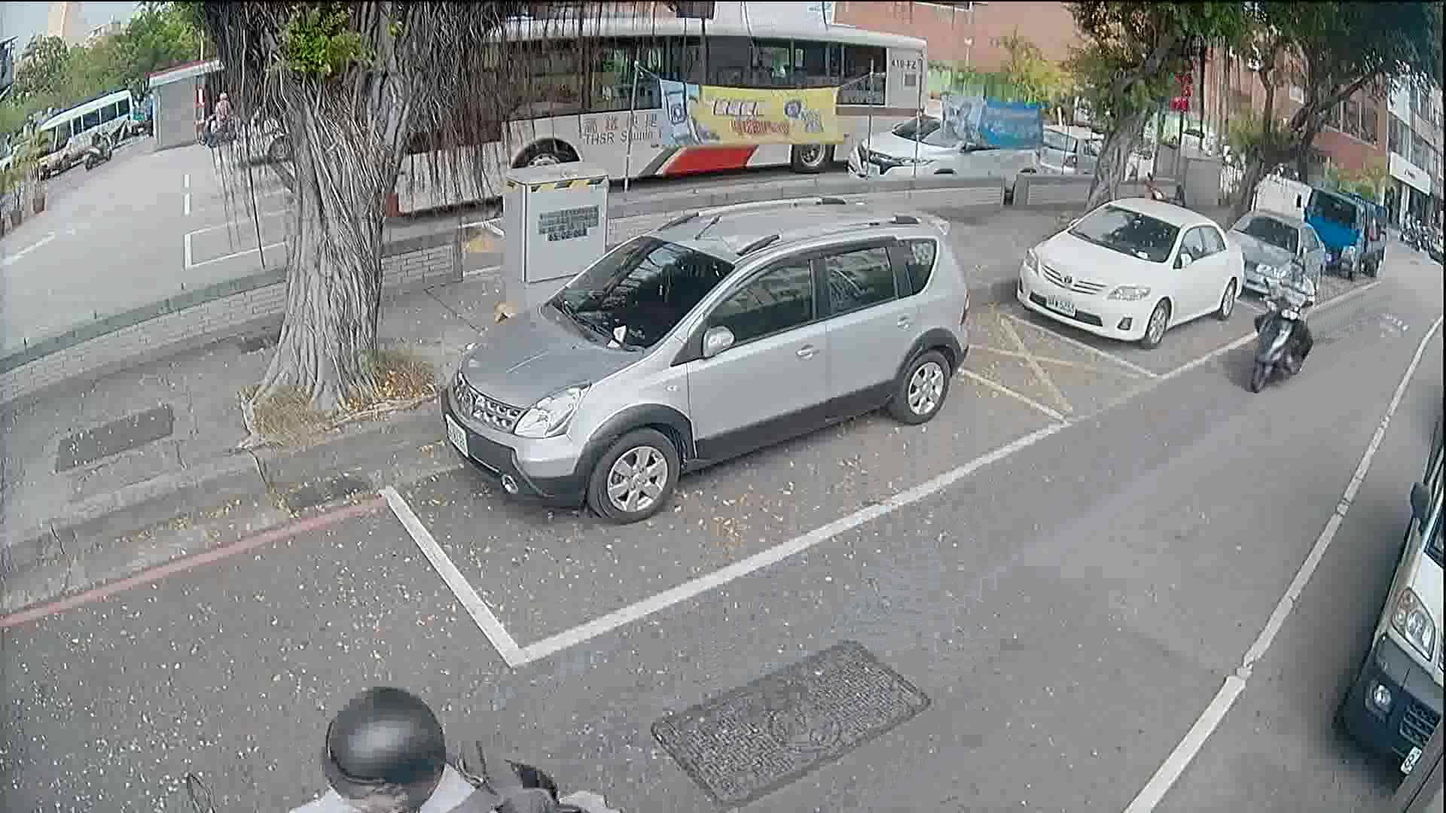person: (263, 678, 493, 811), (1249, 251, 1313, 379), (208, 85, 232, 143), (87, 124, 103, 145)
